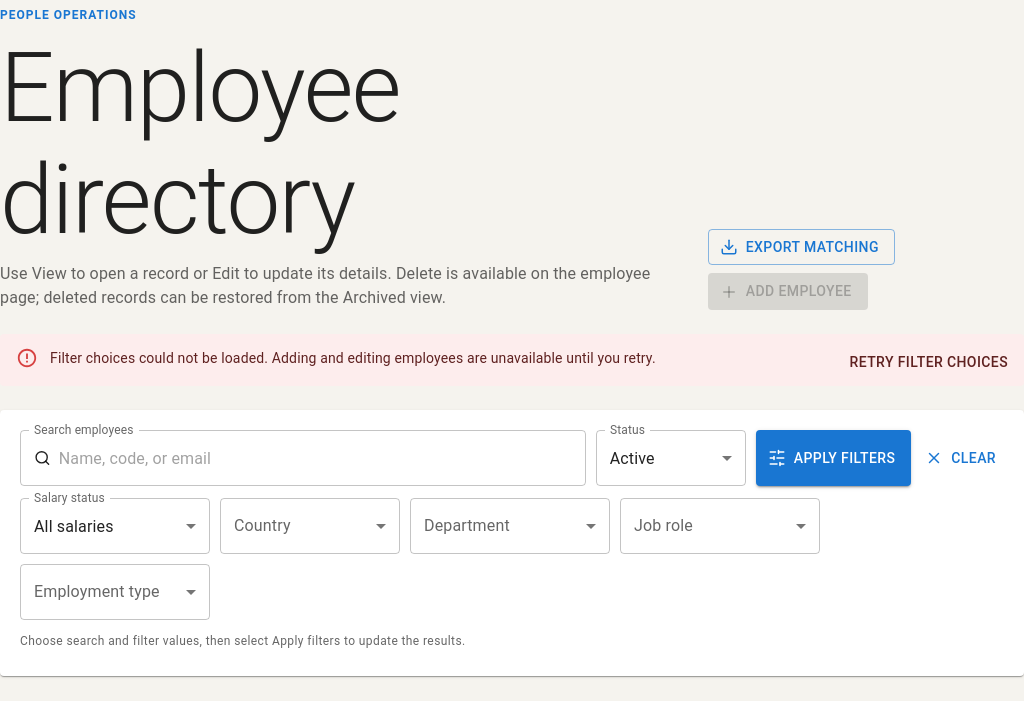
Scenario: EmployeeDirectory › offers an options retry and enables employee creation after recovery
This screenshot has width=1024, height=701.
Click the button "Retry filter choices" at (929, 362), box [842, 344, 1016, 380]
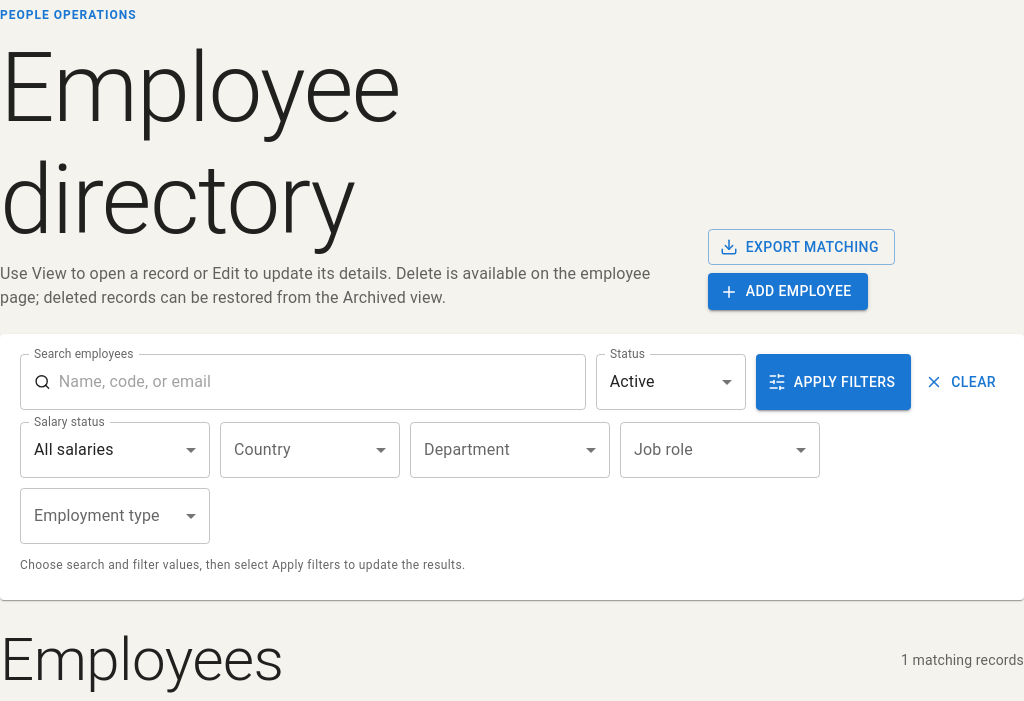
expect the button "Add employee" is enabled: met, box [708, 274, 868, 310]
